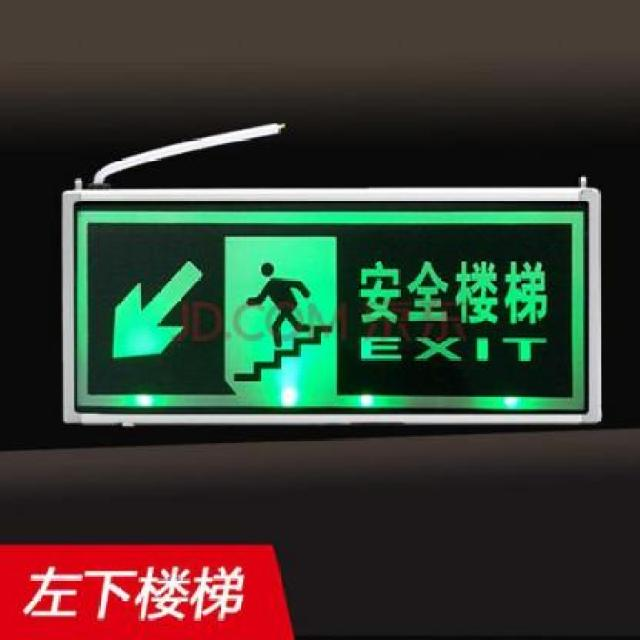exit_sign: (51, 168, 623, 444)
